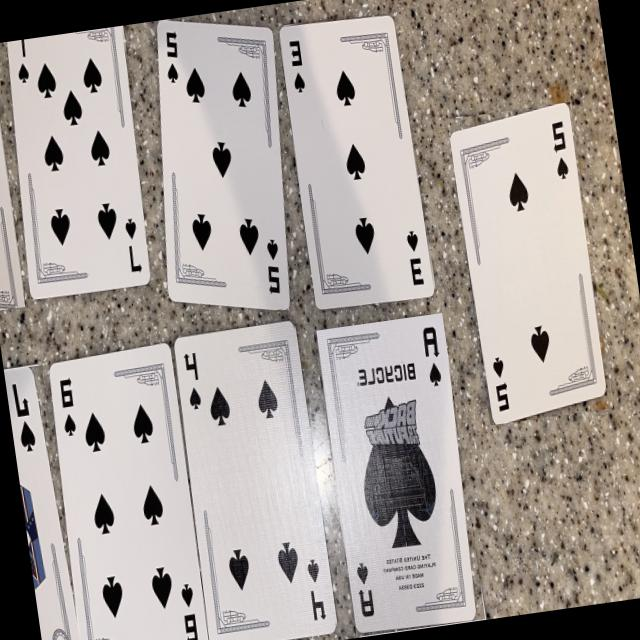2 of spades: (452, 102, 608, 423)
3 of spades: (280, 13, 435, 307)
4 of spades: (175, 320, 337, 640)
5 of spades: (157, 19, 290, 308)
6 of spades: (50, 342, 210, 640)
7 of spades: (8, 25, 151, 299)
8 of spades: (0, 127, 25, 309)
Ace of spades: (317, 312, 476, 631)
Jack of spades: (4, 367, 80, 640)
